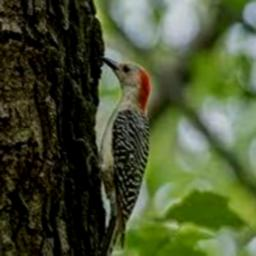Woodpecker: (73, 56, 150, 256)
